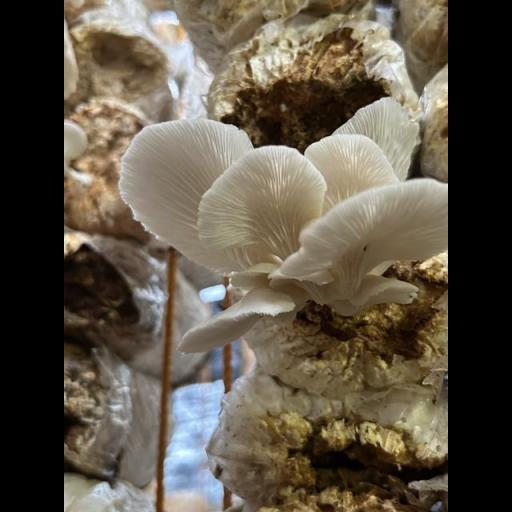White Oyster Mushroom: (113, 111, 451, 358)
